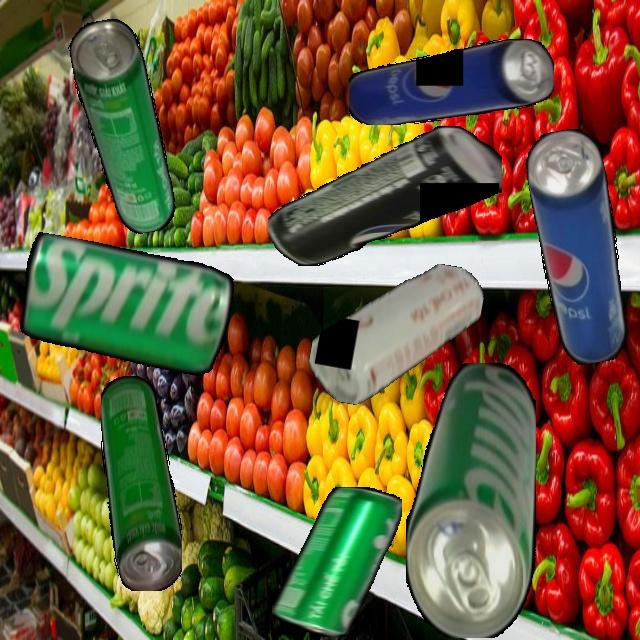debris: (6, 231, 237, 415), (405, 362, 536, 638), (268, 125, 502, 266), (303, 245, 488, 423), (521, 125, 638, 368), (65, 14, 179, 240), (271, 487, 402, 637), (348, 39, 554, 125), (100, 375, 182, 591)
